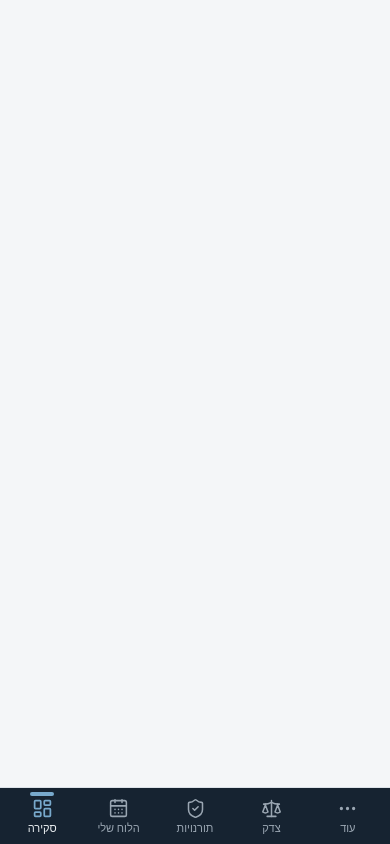
BottomNav — עוד (More) sheet › opens the sheet on tap, containing מטווחים for a non-manager but not the manager-only destinations
This screenshot has width=390, height=844.
Click the button "עוד".
click(348, 816)  # box [310,788,386,843]
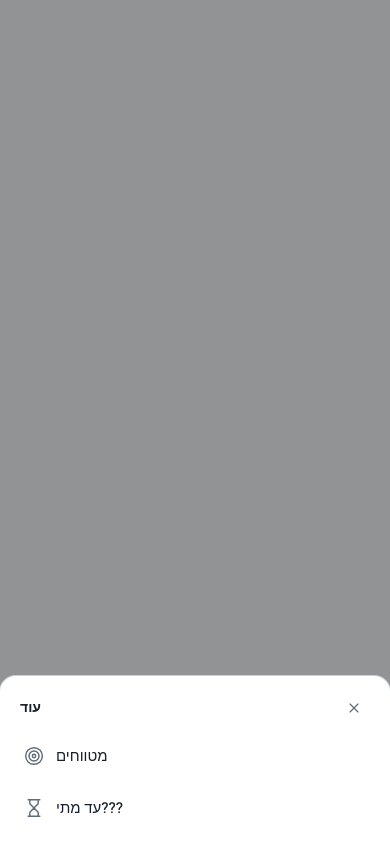
Check: the dialog "עוד" is shown, box [0,676,389,843]
